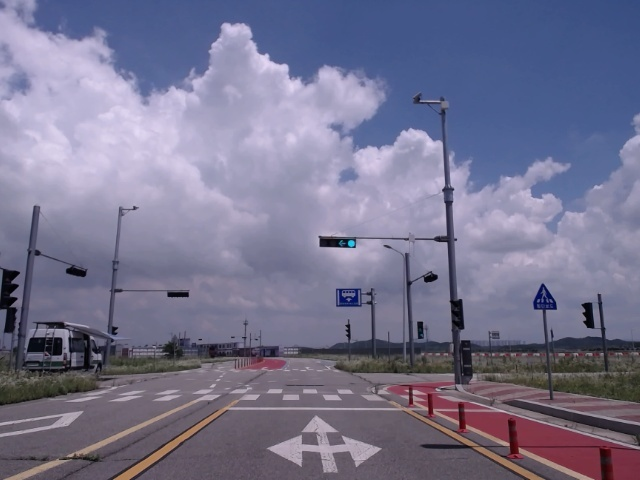all_green_4: (319, 236, 358, 246)
